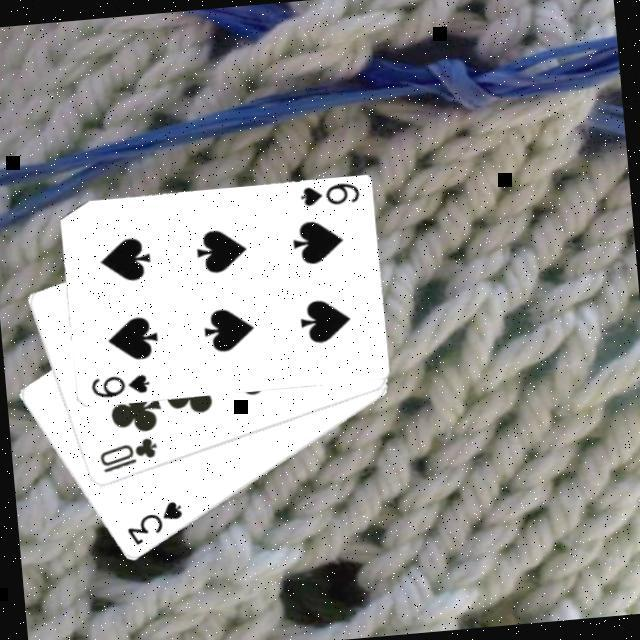10C: (95, 433, 163, 476)
3S: (122, 495, 188, 548)
6S: (88, 370, 154, 401), (297, 179, 363, 210)
